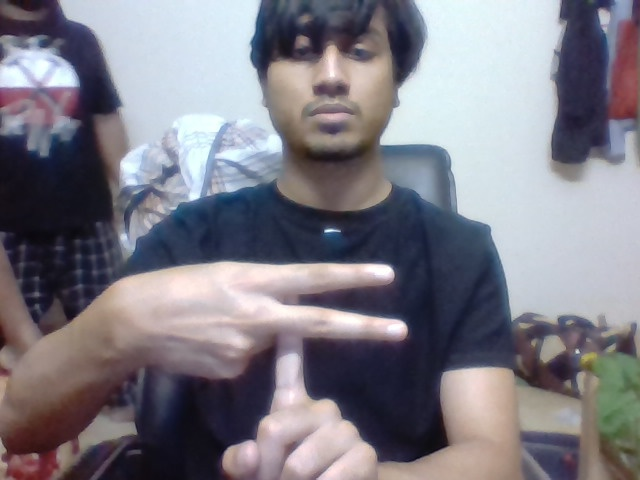F: (269, 260, 413, 391)
